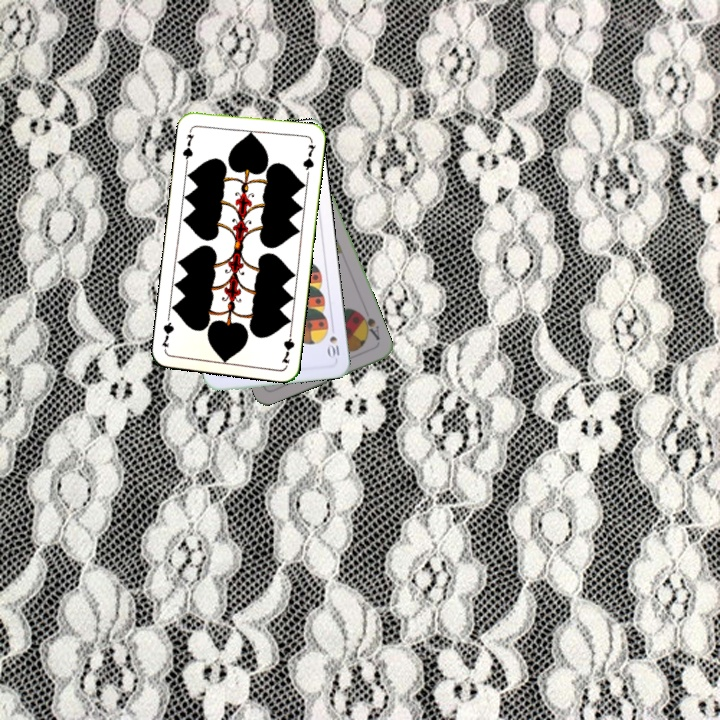G7: (277, 326, 297, 366), (178, 130, 196, 165)
S10: (324, 321, 343, 362)
SA: (356, 309, 383, 343)
